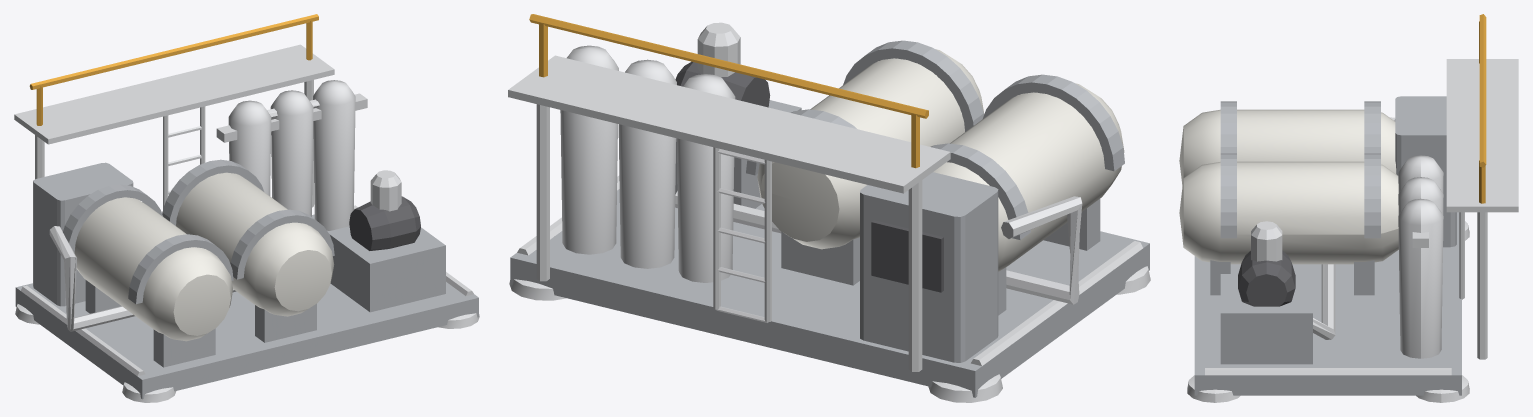
File: water-processing-skid-27dcfe03.glb
The picture shows the model from 3 angles, left to right: view 1: azimuth 30°, elevation 25°; view 2: azimuth 150°, elevation 25°; view 3: azimuth 270°, elevation 25°; orthographic projection. The views are drawn at different scales.
Visible parts, largest first — view 1: water-processing-skid; view 2: water-processing-skid; view 3: water-processing-skid.
Boxes of the visible parts, <box> form: water-processing-skid: <box>14,14,479,402</box>; water-processing-skid: <box>508,14,1150,402</box>; water-processing-skid: <box>1179,14,1518,402</box>.
Size of the model in its own units: 4.25 by 2.43 by 3.3.
